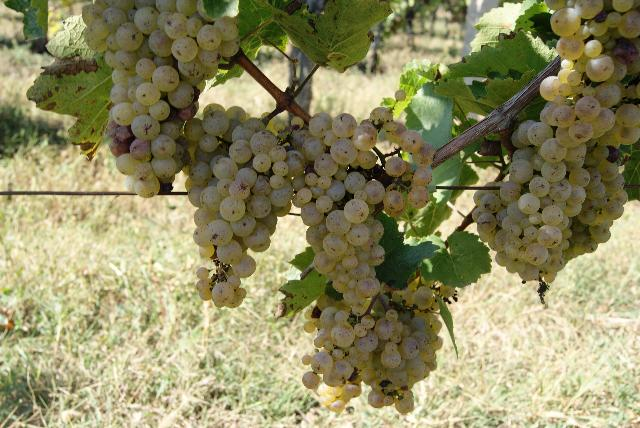grapes: (475, 0, 640, 281), (82, 0, 238, 198), (292, 106, 436, 310), (189, 109, 305, 308), (302, 301, 442, 414)
